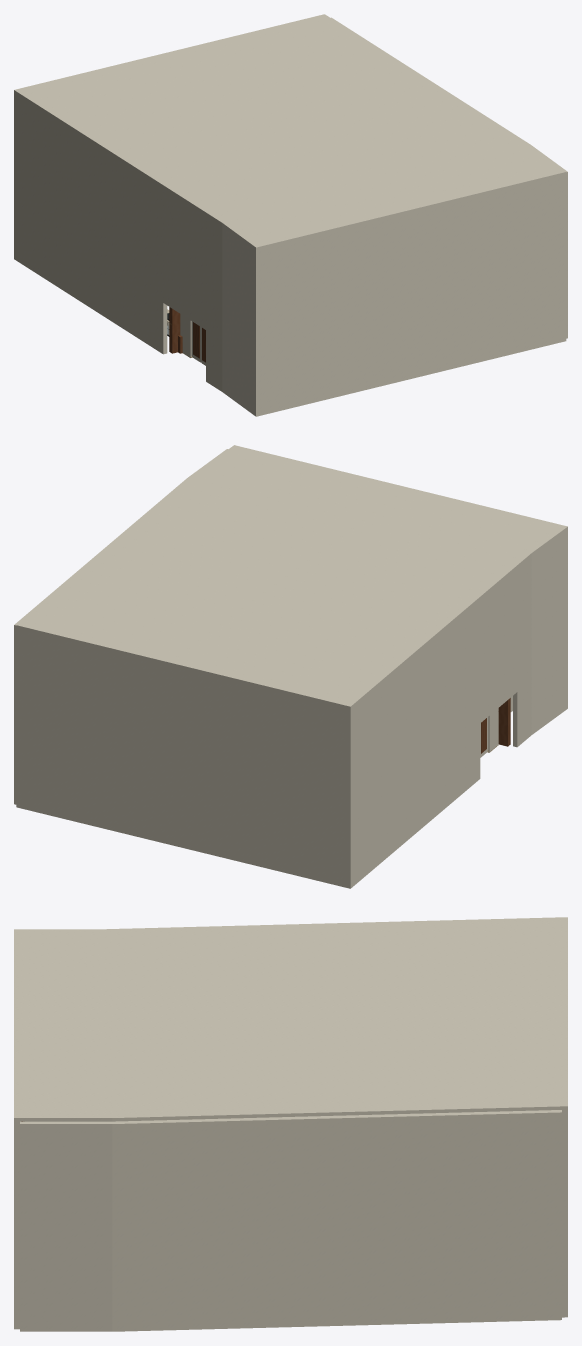
The picture shows the model from 3 angles, top to bottom: view 1: azimuth 30°, elevation 25°; view 2: azimuth 150°, elevation 25°; view 3: azimuth 270°, elevation 25°; orthographic projection. The views are drawn at different scales.
Visible parts, largest first — view 1: PavilionRoof, ForePartyWall, InnerAftPartyReturn, InnerForePartyReturn, ArrivalHeader, HeldFrontageOpaqueEnclosure; view 2: PavilionRoof, AftPartyWall, InnerAftPartyReturn, InnerForePartyReturn, ArrivalHeader, HeldFrontageOpaqueEnclosure, ArrivalForePocket; view 3: HeldFrontageOpaqueEnclosure, PavilionRoof, ForePartyWall, AftPartyWall.
Part boxes in pixels (left/top/right/bottom): PavilionRoof: left=14, top=14, right=566, bottom=250; ForePartyWall: left=253, top=175, right=566, bottom=416; InnerAftPartyReturn: left=14, top=93, right=167, bottom=354; InnerForePartyReturn: left=206, top=215, right=260, bottom=416; ArrivalHeader: left=163, top=188, right=205, bottom=329; HeldFrontageOpaqueEnclosure: left=331, top=17, right=567, bottom=338; PavilionRoof: left=16, top=445, right=567, bottom=709; AftPartyWall: left=16, top=628, right=350, bottom=887; InnerAftPartyReturn: left=346, top=600, right=480, bottom=888; InnerForePartyReturn: left=513, top=530, right=567, bottom=747; ArrivalHeader: left=480, top=568, right=517, bottom=722; HeldFrontageOpaqueEnclosure: left=14, top=449, right=228, bottom=804; ArrivalForePocket: left=498, top=698, right=510, bottom=746; HeldFrontageOpaqueEnclosure: left=20, top=1110, right=561, bottom=1331; PavilionRoof: left=14, top=917, right=567, bottom=1121; ForePartyWall: left=14, top=1121, right=19, bottom=1329; AftPartyWall: left=562, top=1109, right=567, bottom=1317.
Size of the model in its own units: 19.02 by 9.2 by 21.88.
192 materials, 185 textured.
